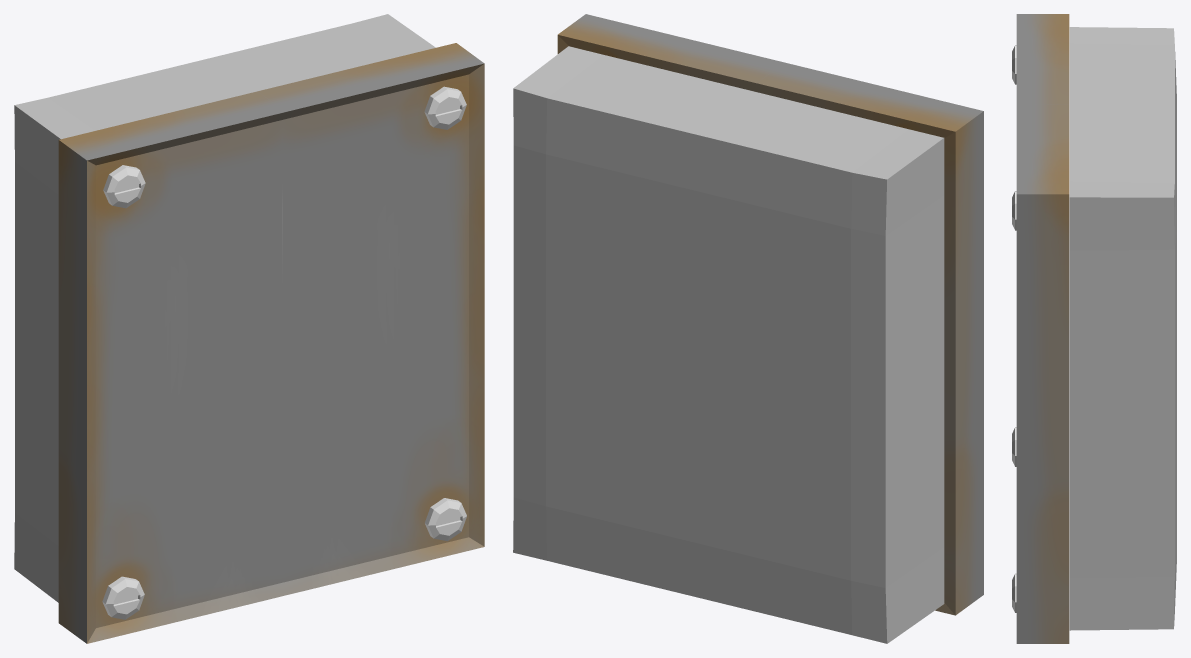
File: MotherBoard_UV_AllAssets.fbx
3 views of the same model, side by side, from view 1: azimuth 30°, elevation 25°; view 2: azimuth 150°, elevation 25°; view 3: azimuth 270°, elevation 25° (orthographic). The views are drawn at different scales.
Visible parts, largest first — view 1: Box Closed_NoScrew_UV, Box Open_UV, screw1, screw2, screw3, screw4; view 2: Box Open_UV, Box Closed_NoScrew_UV; view 3: Box Open_UV, Box Closed_NoScrew_UV.
Part boxes in pixels (x1=…): Box Closed_NoScrew_UV: x1=58, y1=43, x2=484, y2=643; Box Open_UV: x1=14, y1=14, x2=435, y2=602; screw1: x1=103, y1=165, x2=145, y2=208; screw2: x1=424, y1=86, x2=466, y2=129; screw3: x1=102, y1=576, x2=144, y2=619; screw4: x1=425, y1=498, x2=466, y2=541; Box Open_UV: x1=513, y1=46, x2=944, y2=643; Box Closed_NoScrew_UV: x1=557, y1=14, x2=983, y2=615; Box Open_UV: x1=1069, y1=27, x2=1176, y2=630; Box Closed_NoScrew_UV: x1=1016, y1=14, x2=1069, y2=643.
Bounding box in the file's own units: 241 × 280 × 93.05.
